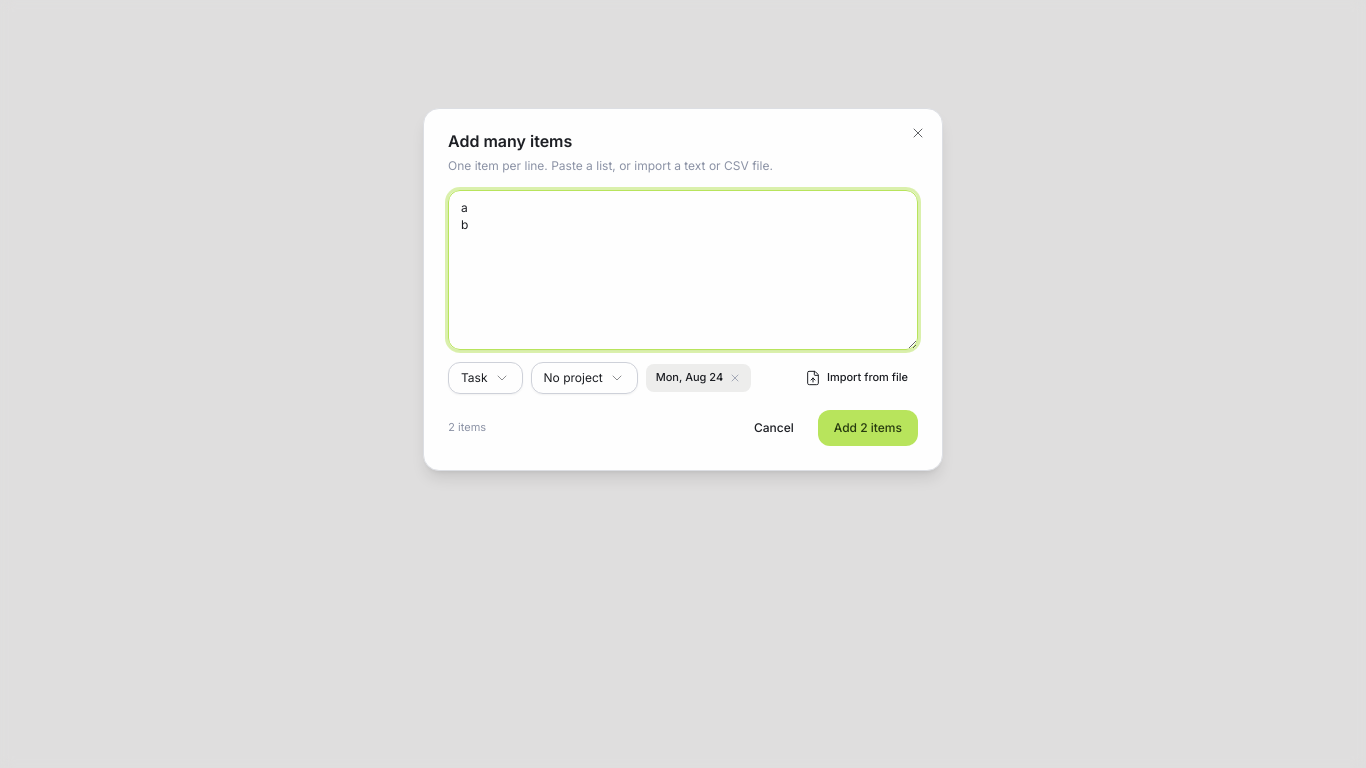
BulkAddDialog › the date chip is removable, and removal unschedules the batch
Later steps or results of the test are not shown.
Step 1. Click the button with test id "bulk-add-date-chip" → (698, 378), box [646,364,751,392]
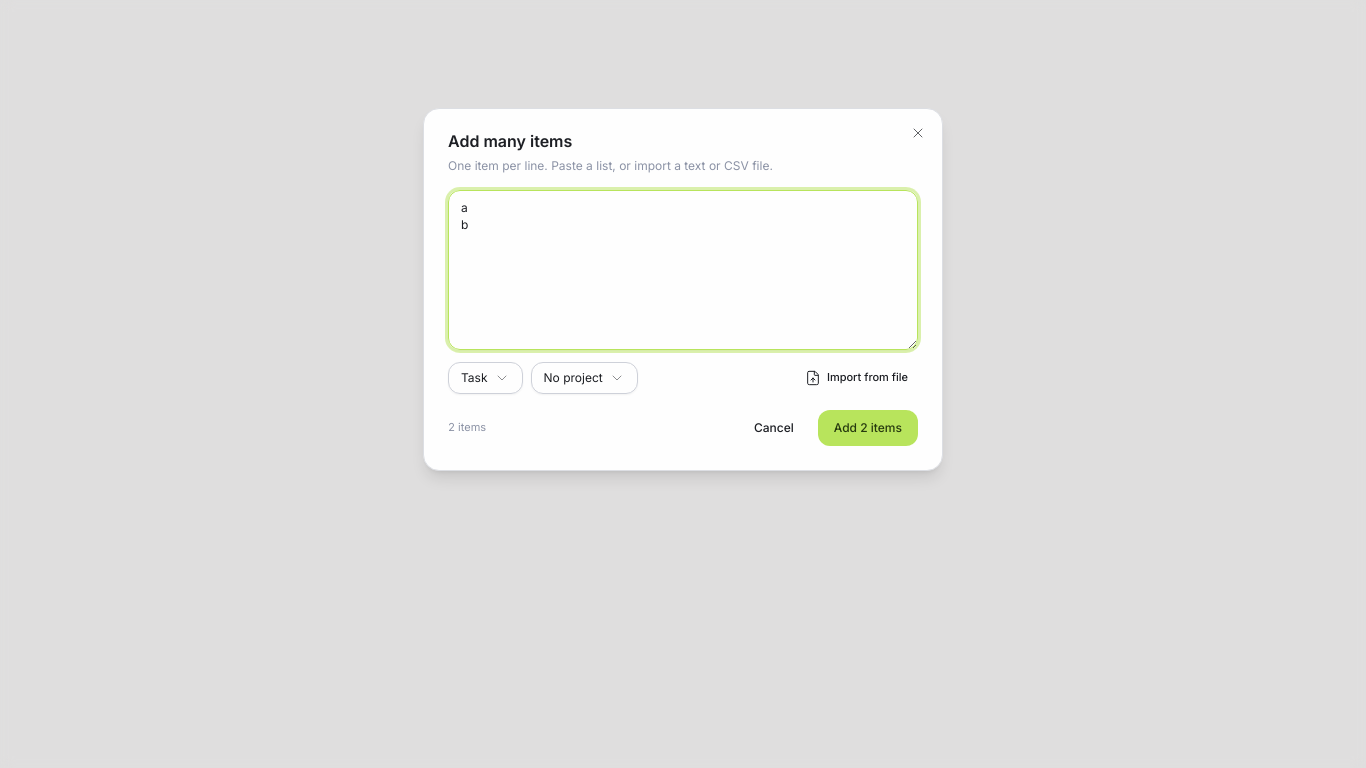
Check: the button with test id "bulk-add-date-chip" is gone
